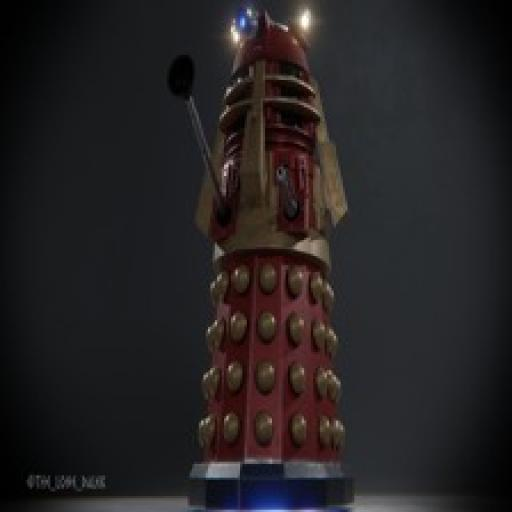dalek: (155, 1, 361, 510)
